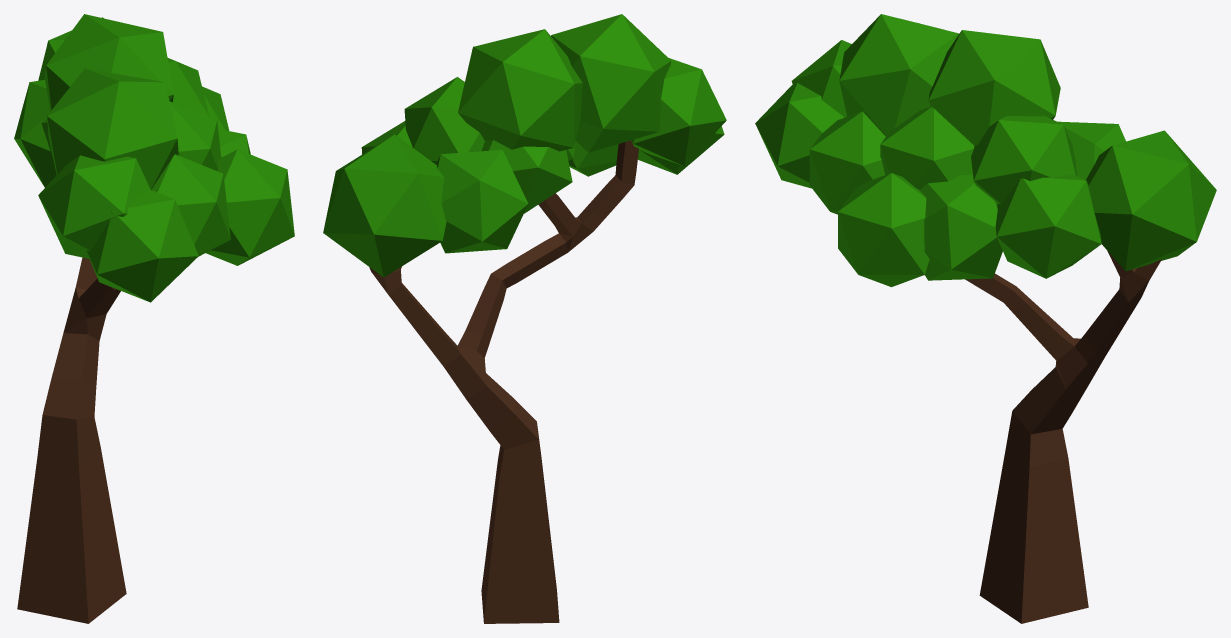
Rendered from Tree1.glb.
3 views of the same model, side by side, from view 1: azimuth 30°, elevation 25°; view 2: azimuth 150°, elevation 25°; view 3: azimuth 270°, elevation 25° (orthographic). The views are drawn at different scales.
Parts seen in each view (by area): view 1: Trunk, Leave2, Leave1, Leave7, Leave10, Leave8, Leave4, Leave6, Leave12, Leave13, Leave11, Leave5 (+1 smaller); view 2: Trunk, Leave3, Leave8, Leave2, Leave6, Leave7, Leave13, Leave9, Leave4, Leave1; view 3: Trunk, Leave3, Leave8, Leave2, Leave5, Leave10, Leave11, Leave13, Leave12, Leave4, Leave1, Leave6 (+1 smaller).
Boxes of the visible parts, bbox=[...] form: Trunk: bbox=[17, 257, 126, 623]; Leave2: bbox=[47, 68, 178, 189]; Leave1: bbox=[87, 189, 198, 302]; Leave7: bbox=[38, 155, 150, 258]; Leave10: bbox=[206, 149, 294, 265]; Leave8: bbox=[44, 14, 173, 111]; Leave4: bbox=[151, 154, 230, 256]; Leave6: bbox=[14, 80, 56, 187]; Leave12: bbox=[169, 101, 221, 170]; Leave13: bbox=[167, 58, 209, 116]; Leave11: bbox=[218, 129, 250, 157]; Leave5: bbox=[202, 86, 229, 130]; Trunk: bbox=[369, 140, 638, 623]; Leave3: bbox=[323, 134, 446, 277]; Leave8: bbox=[458, 29, 582, 151]; Leave2: bbox=[551, 14, 671, 152]; Leave6: bbox=[436, 150, 528, 253]; Leave7: bbox=[631, 58, 726, 166]; Leave13: bbox=[404, 77, 484, 164]; Leave9: bbox=[481, 140, 572, 213]; Leave4: bbox=[568, 141, 618, 176]; Leave1: bbox=[638, 126, 724, 174]; Trunk: bbox=[965, 251, 1161, 623]; Leave3: bbox=[1086, 130, 1216, 271]; Leave8: bbox=[928, 30, 1060, 145]; Leave2: bbox=[839, 14, 958, 136]; Leave5: bbox=[995, 174, 1101, 278]; Leave10: bbox=[838, 173, 930, 287]; Leave11: bbox=[919, 174, 1002, 280]; Leave13: bbox=[971, 116, 1077, 203]; Leave12: bbox=[880, 106, 974, 189]; Leave4: bbox=[809, 111, 885, 214]; Leave1: bbox=[755, 83, 843, 188]; Leave6: bbox=[1058, 121, 1125, 179].
Size of the model in its own units: 4.97 by 10.21 by 7.4.
